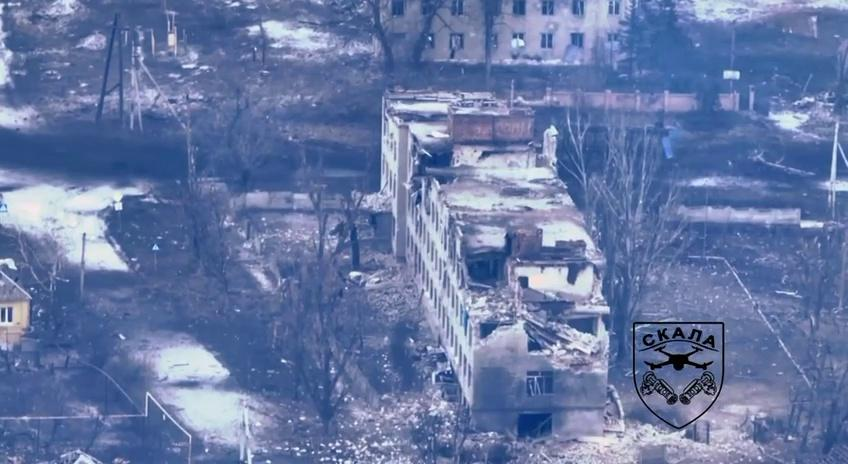person: (239, 166, 253, 190), (328, 220, 346, 238), (368, 212, 378, 233)
